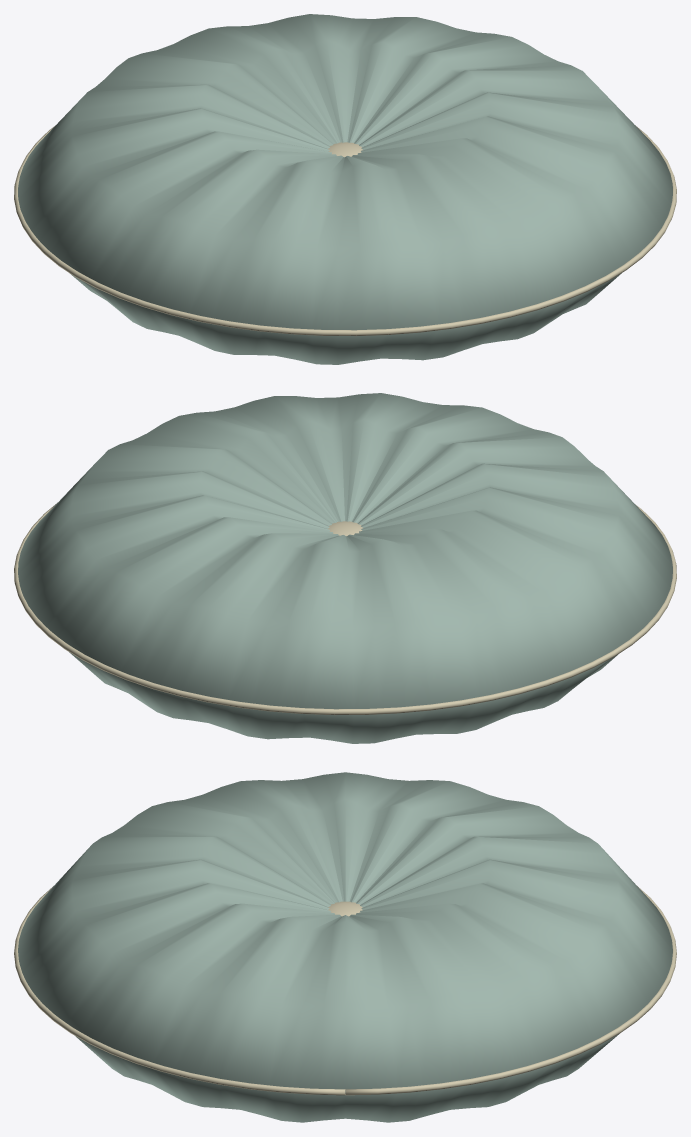
File: round_cushion.glb
3 renders of one model, top to bottom at view 1: azimuth 30°, elevation 25°; view 2: azimuth 150°, elevation 25°; view 3: azimuth 270°, elevation 25°, orthographic.
Visible parts, largest first — view 1: round_cushion__body, round_cushion__accent; view 2: round_cushion__body, round_cushion__accent; view 3: round_cushion__body, round_cushion__accent.
Part boxes in pixels (bbox=[...]): round_cushion__body: bbox=[18, 14, 672, 364]; round_cushion__accent: bbox=[14, 125, 676, 336]; round_cushion__body: bbox=[18, 393, 672, 743]; round_cushion__accent: bbox=[14, 502, 676, 715]; round_cushion__body: bbox=[18, 772, 672, 1122]; round_cushion__accent: bbox=[14, 886, 676, 1095].
Bounding box in the file's own units: 0.412 × 0.117 × 0.412.
